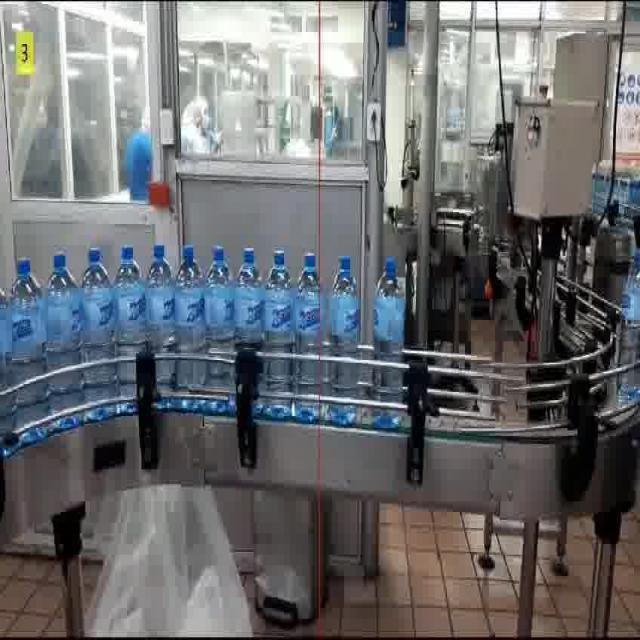bottle: (369, 254, 407, 430), (326, 254, 361, 427), (260, 247, 295, 420), (40, 250, 82, 394), (292, 251, 324, 423), (7, 256, 43, 407), (175, 244, 207, 391), (205, 244, 238, 386), (114, 246, 147, 385), (82, 247, 113, 386), (146, 244, 177, 361), (235, 246, 263, 349)
